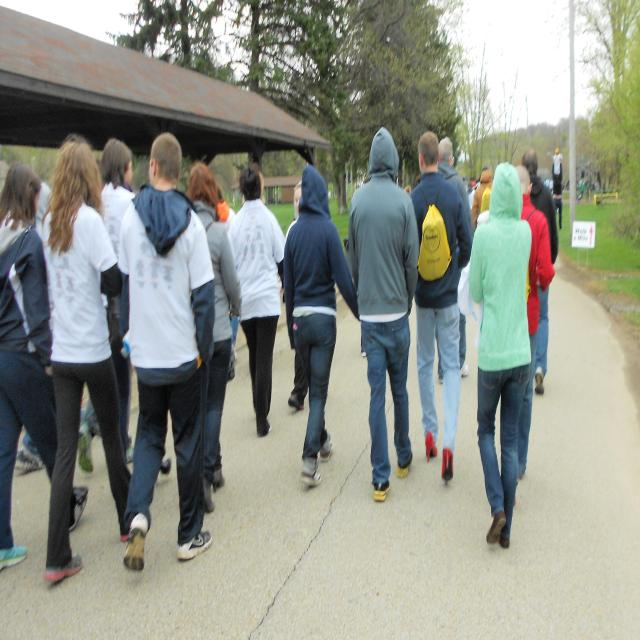body: (354, 140, 617, 372), (120, 170, 272, 490), (117, 132, 216, 572), (41, 136, 132, 585), (0, 161, 89, 572), (345, 125, 420, 509), (468, 157, 534, 552), (282, 162, 360, 488), (410, 130, 473, 486), (181, 159, 242, 516), (76, 136, 136, 473), (224, 161, 286, 445), (10, 172, 58, 479), (515, 163, 557, 480), (283, 180, 336, 416), (434, 136, 475, 386), (520, 148, 560, 398), (216, 181, 240, 236), (468, 166, 488, 213), (552, 163, 564, 230), (550, 148, 564, 182)
